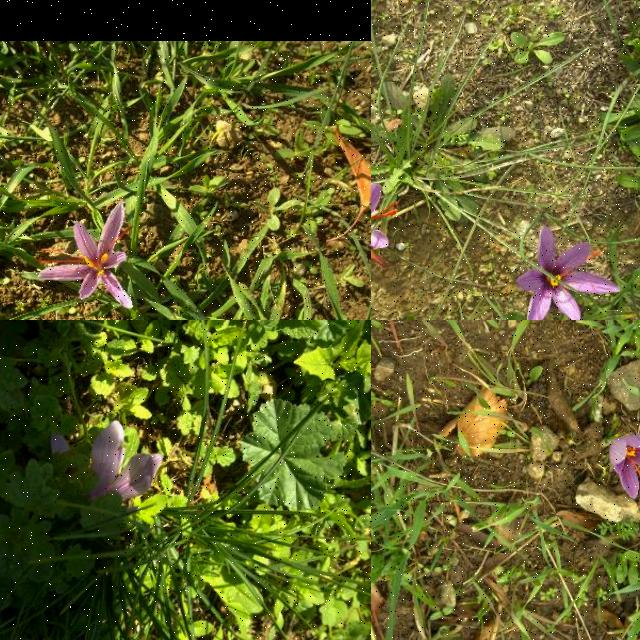flower: (39, 202, 134, 308), (516, 226, 621, 320), (371, 176, 395, 283), (609, 435, 640, 499)
overlap: (49, 422, 165, 508)
